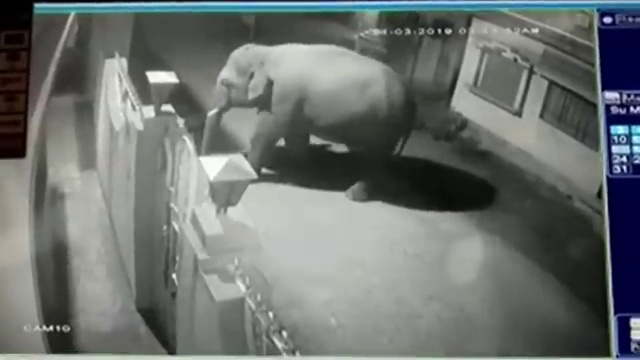Elephant: (201, 43, 416, 202)
